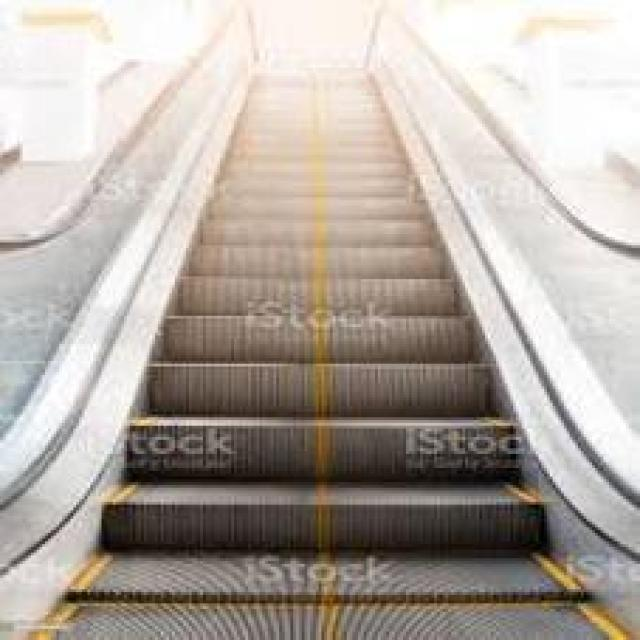upstair: (80, 373, 573, 590)
